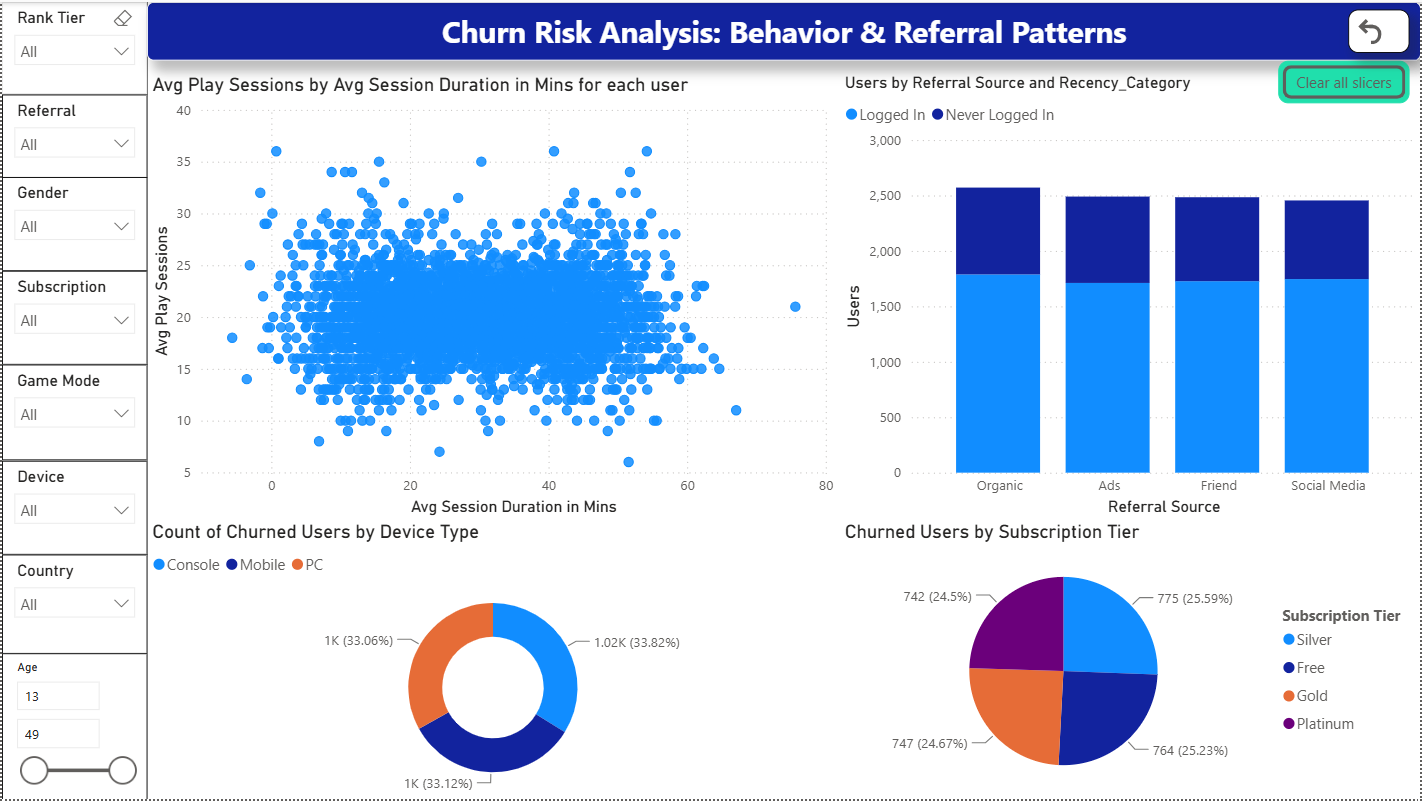

This screenshot's page, from the dashboard's own definition file:
{"tool":"powerbi","page":{"name":"Churn Risk Analysis: Behavior & Referral Patterns","canvas":[1280,720],"ordinal":1},"visuals":[{"type":"columnChart","fields":{"Category":["matiks-clean-data.Referral_Source"],"Y":["CountNonNull(matiks-clean-data.User_ID)"],"Series":["matiks-clean-data.Recency_Category"]},"box":[755.1,63.9,525.2,403.9],"z":0},{"type":"scatterChart","title":"Avg Play Sessions by Avg Session Duration in Mins for each user","fields":{"Y":["Avg(matiks-clean-data.Total_Play_Sessions)"],"X":["matiks-clean-data.Avg_Session_Duration_Min"]},"box":[130.9,63.9,624.2,403.9],"z":1000},{"type":"pieChart","fields":{"Category":["matiks-clean-data.Subscription_Tier"],"Y":["CountNonNull(matiks-clean-data.Recency_Category)"]},"box":[755.1,467.7,525.2,252.2],"z":2000},{"type":"donutChart","fields":{"Category":["matiks-clean-data.Device_Type"],"Y":["CountNonNull(matiks-clean-data.Recency_Category)"]},"box":[130.9,467.7,624.2,252.2],"z":3000},{"type":"slicer","fields":{"Values":["matiks-clean-data.Gender"]},"box":[0,158,130.9,84.6],"z":4000},{"type":"slicer","fields":{"Values":["matiks-clean-data.Subscription_Tier"]},"box":[0,242.7,130.9,84.6],"z":5000},{"type":"slicer","fields":{"Values":["matiks-clean-data.Rank_Tier"]},"box":[0,0,130.9,83],"z":6000},{"type":"slicer","fields":{"Values":["matiks-clean-data.Referral_Source"]},"box":[0,83,130.9,75],"z":7000},{"type":"slicer","fields":{"Values":["matiks-clean-data.Preferred_Game_Mode"]},"box":[0,327.3,130.9,86.2],"z":8000},{"type":"slicer","fields":{"Values":["matiks-clean-data.Device_Type"]},"box":[0,413.5,130.9,84.6],"z":9000},{"type":"slicer","fields":{"Values":["matiks-clean-data.Country"]},"box":[0,498.1,130.9,89.4],"z":10000},{"type":"slicer","fields":{"Values":["matiks-clean-data.Age"]},"box":[0,587.5,130.9,132.5],"z":11000},{"type":"textbox","box":[130.9,0,1149.4,52.7],"z":12000},{"type":"actionButton","box":[1150.9,52.8,118.8,38.3],"z":12001},{"type":"actionButton","box":[1214.3,6.6,55.4,39.6],"z":12002}]}

Visuals, with their boxes on the page's 1280x720 design canvas (x1, y1, x2, y2). These are canvas units, not pixel positions in the 1422x802 screenshot, which may show the page scaled, cropped or inside an application window:
columnChart - matiks-clean-data.Referral_Source x CountNonNull(matiks-clean-data.User_ID): (755,64,1280,468)
"Avg Play Sessions by Avg Session Duration in Mins for each user" scatterChart: (131,64,755,468)
pieChart - matiks-clean-data.Subscription_Tier x CountNonNull(matiks-clean-data.Recency_Category): (755,468,1280,720)
donutChart - matiks-clean-data.Device_Type x CountNonNull(matiks-clean-data.Recency_Category): (131,468,755,720)
slicer - matiks-clean-data.Gender: (0,158,131,243)
slicer - matiks-clean-data.Subscription_Tier: (0,243,131,327)
slicer - matiks-clean-data.Rank_Tier: (0,0,131,83)
slicer - matiks-clean-data.Referral_Source: (0,83,131,158)
slicer - matiks-clean-data.Preferred_Game_Mode: (0,327,131,414)
slicer - matiks-clean-data.Device_Type: (0,414,131,498)
slicer - matiks-clean-data.Country: (0,498,131,588)
slicer - matiks-clean-data.Age: (0,588,131,720)
textbox: (131,0,1280,53)
actionButton: (1151,53,1270,91)
actionButton: (1214,7,1270,46)
